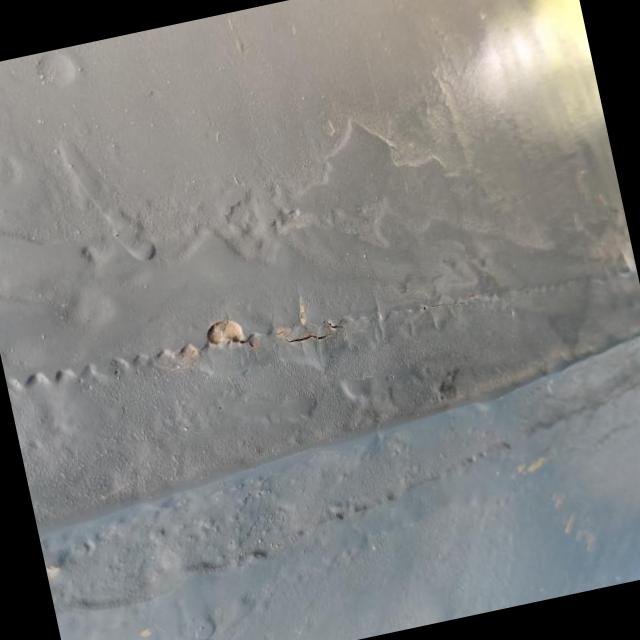Crack: (188, 308, 371, 368)
